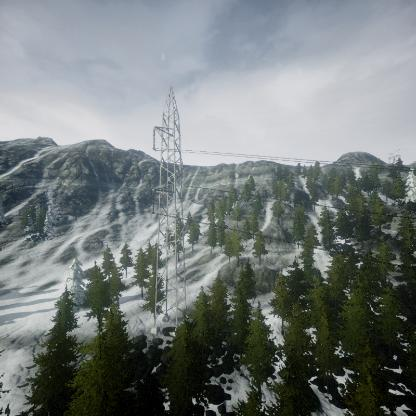tower: (148, 84, 193, 340)
